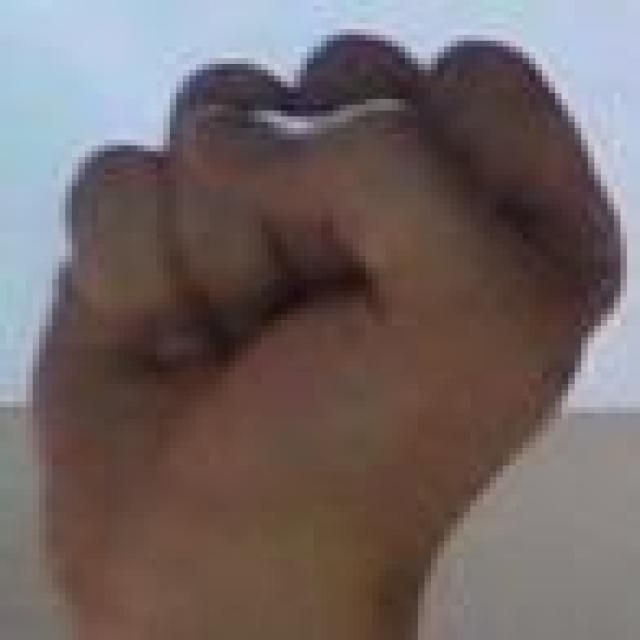S: (9, 7, 640, 543)
